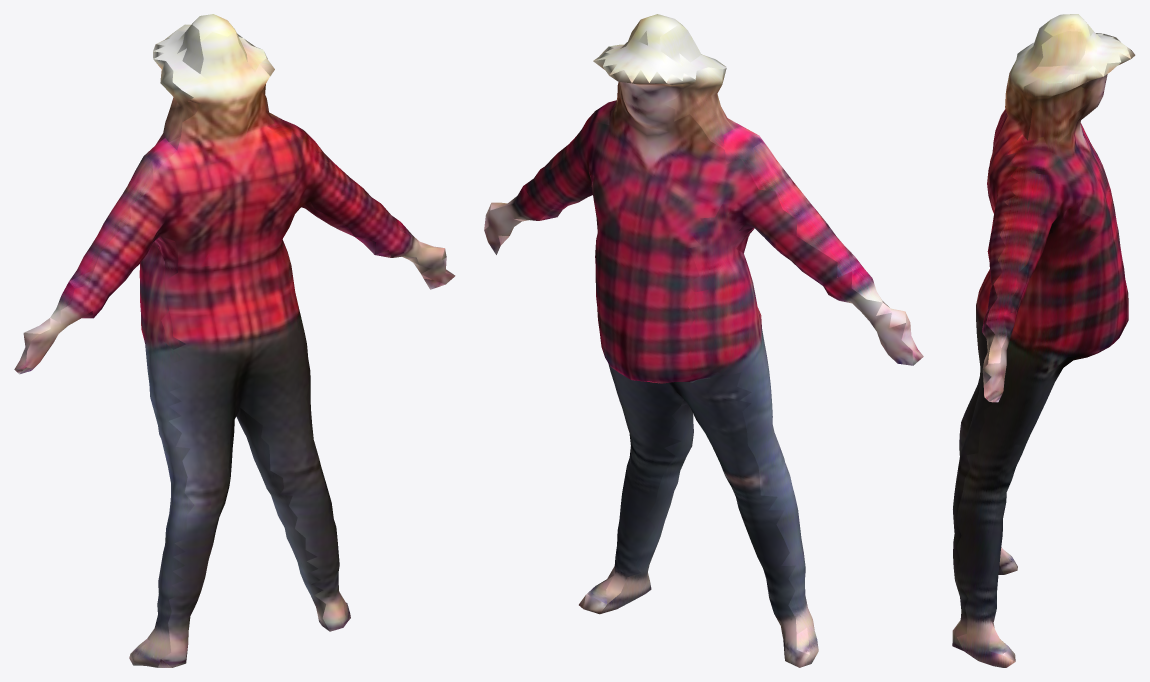
The picture shows the model from 3 angles, left to right: view 1: azimuth 30°, elevation 25°; view 2: azimuth 150°, elevation 25°; view 3: azimuth 270°, elevation 25°; orthographic projection. The views are drawn at different scales.
Parts seen in each view (by area): view 1: world; view 2: world; view 3: world.
Boxes of the visible parts, left/top/right/bottom form: world: left=14, top=14, right=455, bottom=667; world: left=484, top=14, right=923, bottom=667; world: left=952, top=14, right=1135, bottom=667.
Size of the model in its own units: 0.7541 by 1.02 by 0.2785.
Materials: 1 (1 with a texture image).
